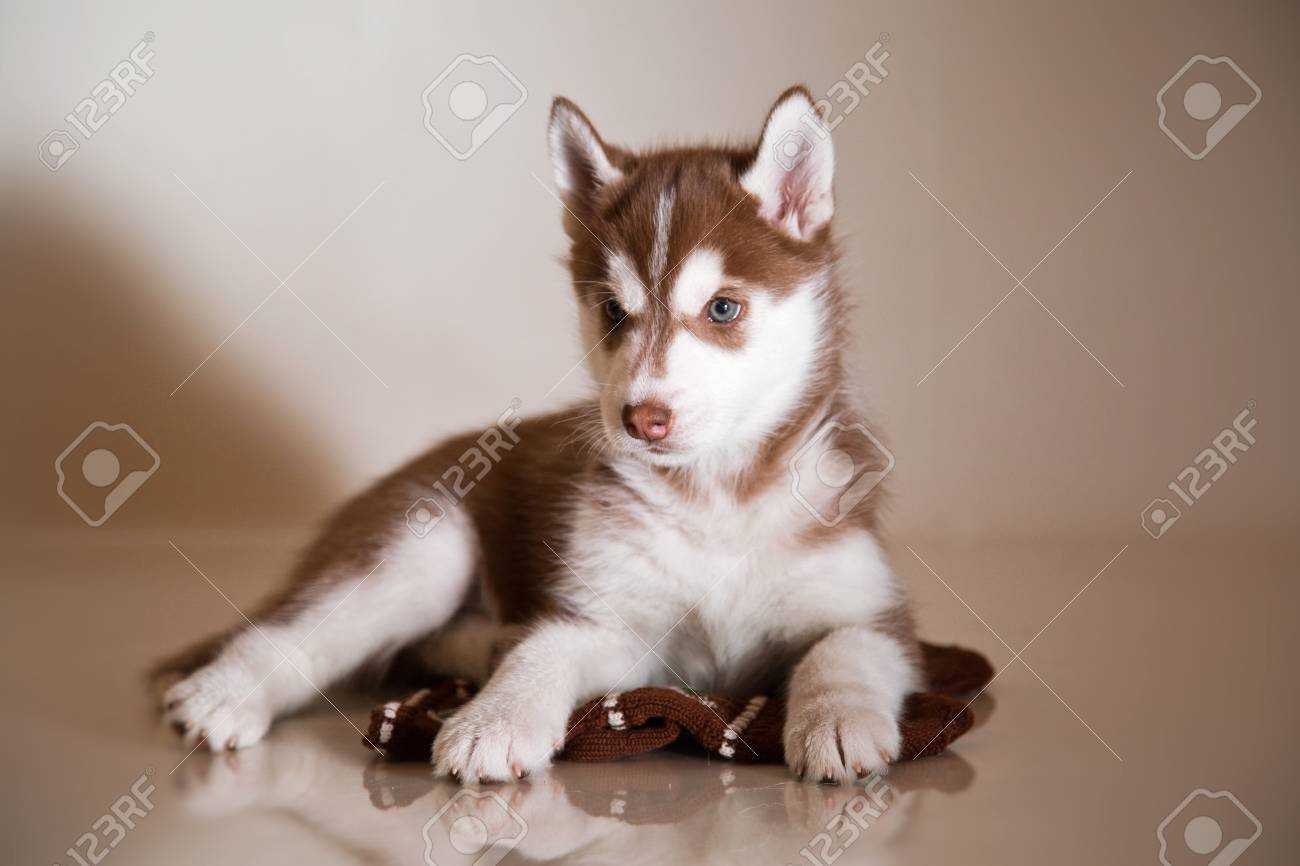husky: (217, 56, 921, 764)
